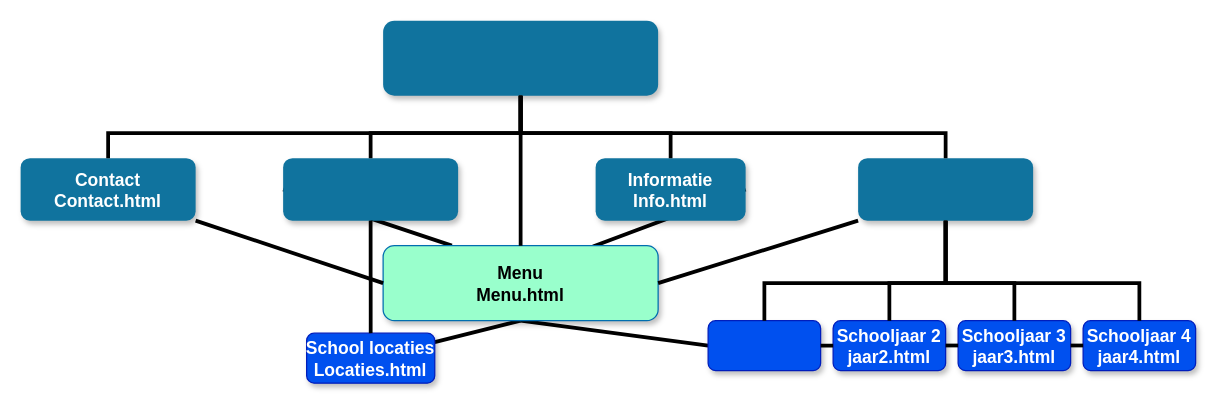
Image size: 1216x404. Some labels were removed from this diagram. The shapes that lost their labels are listed below. From the top down, each one's centre as x and y in pixels, then its label:
the point at 521,59: Homepage Index.html
the point at 371,190: Over de school OverOns.html
the point at 946,190: Schooljaar Schooljaren.html
the point at 765,346: Schooljaar 1 jaar1.html
